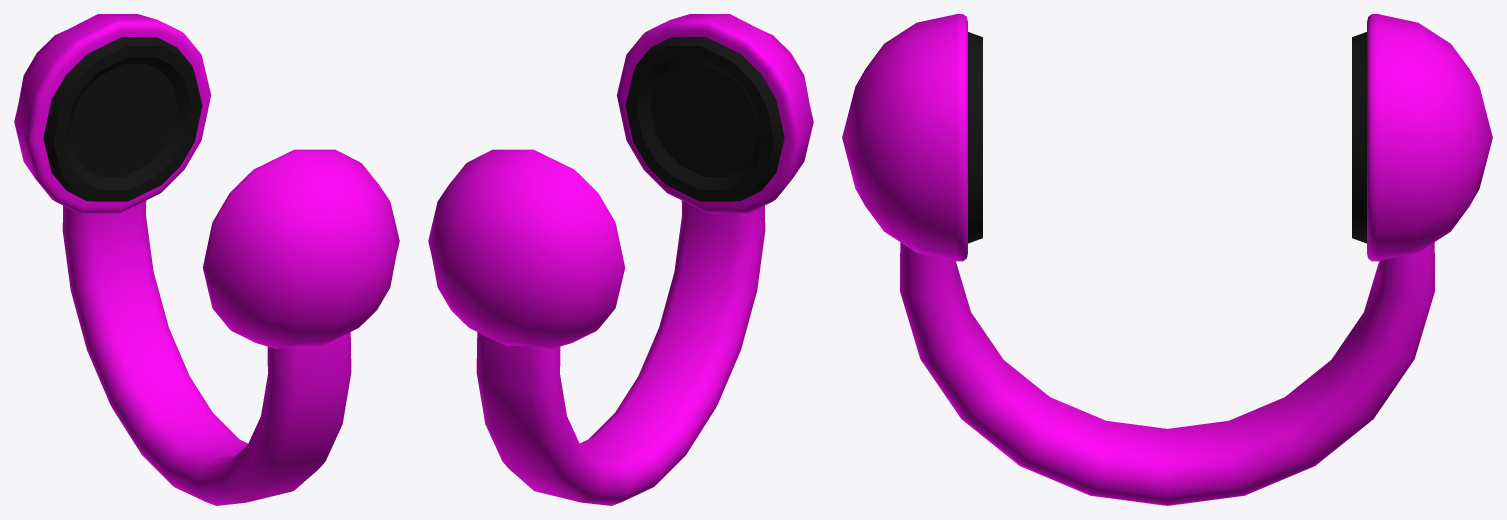
Rendered from Headphones.FBX.
The picture shows the model from 3 angles, left to right: view 1: azimuth 30°, elevation 25°; view 2: azimuth 150°, elevation 25°; view 3: azimuth 270°, elevation 25°; orthographic projection. The views are drawn at different scales.
Visible parts, largest first — view 1: Box001; view 2: Box001; view 3: Box001.
Boxes of the visible parts, x1=… form: Box001: x1=14, y1=14, x2=399, y2=505; Box001: x1=428, y1=14, x2=813, y2=505; Box001: x1=842, y1=14, x2=1492, y2=505.
Size of the model in its own units: 18.84 by 39.25 by 49.59.
